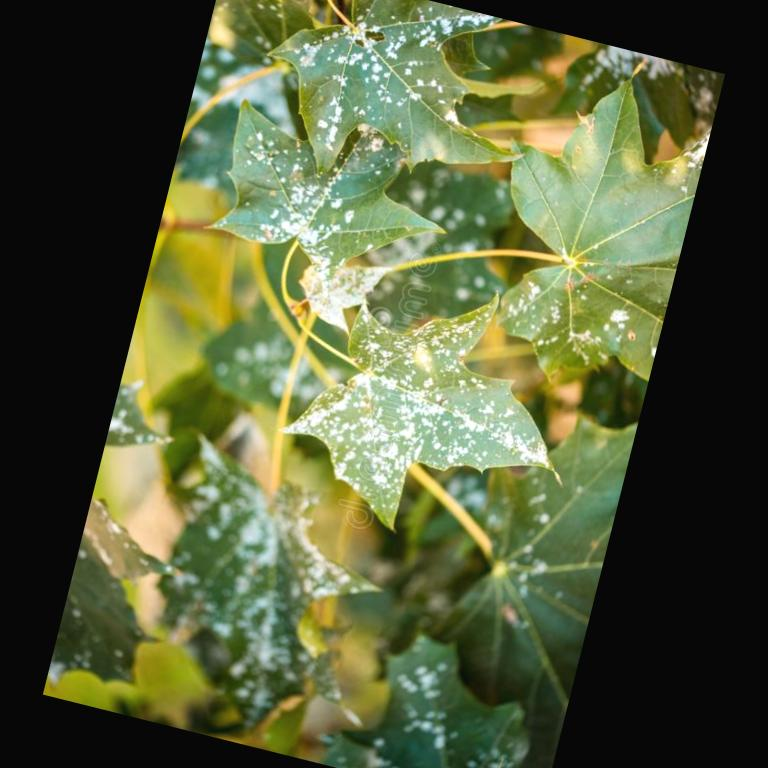powdery-mildew: (314, 18, 428, 138), (417, 377, 521, 460), (274, 165, 364, 247)
